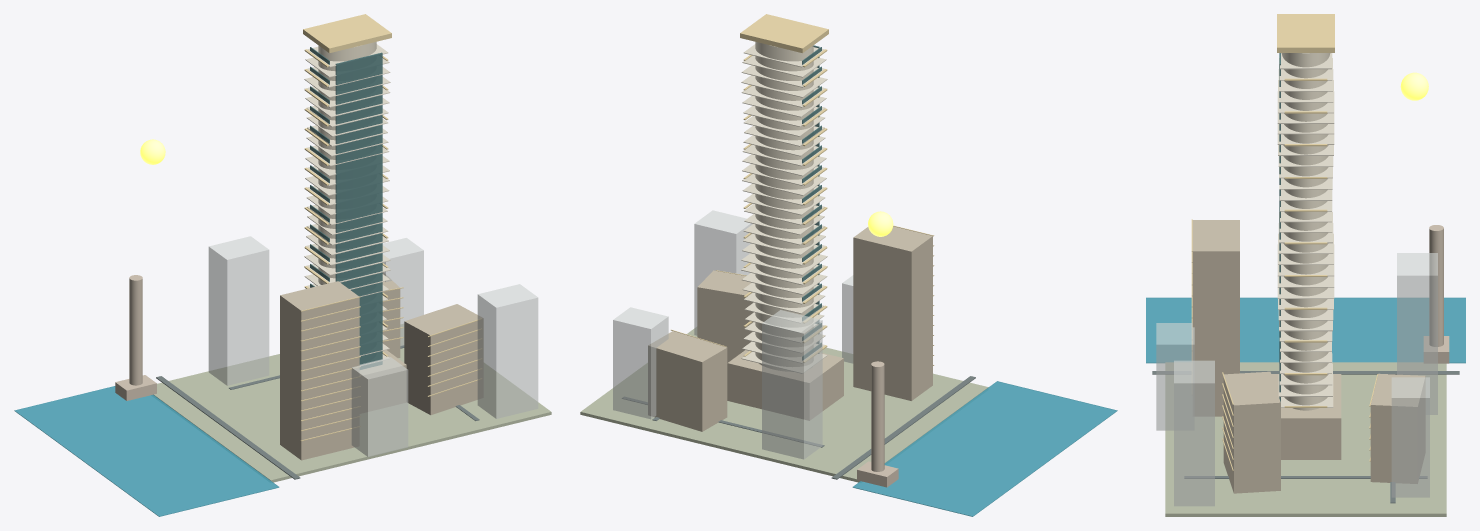
Rendered from model-prototype.glb.
3 renders of one model, left to right at view 1: azimuth 30°, elevation 25°; view 2: azimuth 150°, elevation 25°; view 3: azimuth 270°, elevation 25°, orthographic. The views are drawn at different scales.
Visible parts, largest first — view 1: sde_dov_land_platform, west_coast_sea_plane, north_boutique_15_storey, ashira_core_shadow_reveal, rainbow_reference_massing, gindi_vogue_reference_massing, east_boutique_8_storey, future_sde_dov_massing_north, dimri_yama_reference_massing, ashira_main_34_floor_tower, ashira_ground_lobby, ashira_roof_crown (+4 smaller); view 2: west_coast_sea_plane, sde_dov_land_platform, north_boutique_15_storey, ashira_main_34_floor_tower, rainbow_reference_massing, south_boutique_7_storey, ashira_ground_lobby, dimri_yama_reference_massing, east_boutique_8_storey, gindi_vogue_reference_massing, ashira_roof_crown, reading_power_station_landmark_south (+3 smaller); view 3: sde_dov_land_platform, west_coast_sea_plane, ashira_main_34_floor_tower, north_boutique_15_storey, east_boutique_8_storey, gindi_vogue_reference_massing, south_boutique_7_storey, rainbow_reference_massing, dimri_yama_reference_massing, future_sde_dov_massing_north, ashira_ground_lobby, ashira_roof_crown (+14 smaller).
Boxes of the visible parts, box(x1,y1,x2,y2) form: sde_dov_land_platform: box(153, 324, 551, 482); west_coast_sea_plane: box(14, 386, 279, 516); north_boutique_15_storey: box(280, 281, 359, 460); ashira_core_shadow_reveal: box(335, 52, 382, 369); rainbow_reference_massing: box(208, 236, 269, 385); gindi_vogue_reference_massing: box(477, 284, 538, 418); east_boutique_8_storey: box(404, 304, 483, 415); future_sde_dov_massing_north: box(351, 357, 408, 456); dimri_yama_reference_massing: box(382, 238, 423, 345); ashira_main_34_floor_tower: box(318, 42, 376, 284); ashira_ground_lobby: box(360, 350, 406, 413); ashira_roof_crown: box(303, 14, 391, 53); west_coast_sea_plane: box(852, 381, 1117, 516); sde_dov_land_platform: box(580, 327, 988, 482); north_boutique_15_storey: box(853, 226, 932, 400); ashira_main_34_floor_tower: box(755, 42, 813, 371); rainbow_reference_massing: box(762, 310, 822, 459); south_boutique_7_storey: box(648, 331, 727, 431); ashira_ground_lobby: box(727, 350, 843, 420); dimri_yama_reference_massing: box(613, 307, 668, 419); east_boutique_8_storey: box(697, 270, 753, 362); gindi_vogue_reference_massing: box(694, 210, 752, 335); ashira_roof_crown: box(740, 14, 828, 53); reading_power_station_landmark_south: box(871, 361, 884, 471); sde_dov_land_platform: box(1165, 362, 1446, 516); west_coast_sea_plane: box(1146, 297, 1465, 363); ashira_main_34_floor_tower: box(1281, 53, 1330, 410); north_boutique_15_storey: box(1192, 220, 1239, 416); east_boutique_8_storey: box(1223, 371, 1280, 493); gindi_vogue_reference_massing: box(1174, 360, 1214, 506); south_boutique_7_storey: box(1370, 373, 1425, 483); rainbow_reference_massing: box(1397, 253, 1437, 414); dimri_yama_reference_massing: box(1391, 377, 1429, 497); future_sde_dov_massing_north: box(1156, 323, 1194, 430); ashira_ground_lobby: box(1271, 374, 1341, 459); ashira_roof_crown: box(1277, 14, 1334, 52).
Bounding box in the file's own units: 40 × 35.38 × 25.
